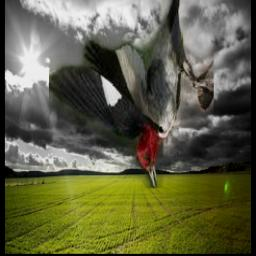Woodpecker: (50, 0, 215, 188)
